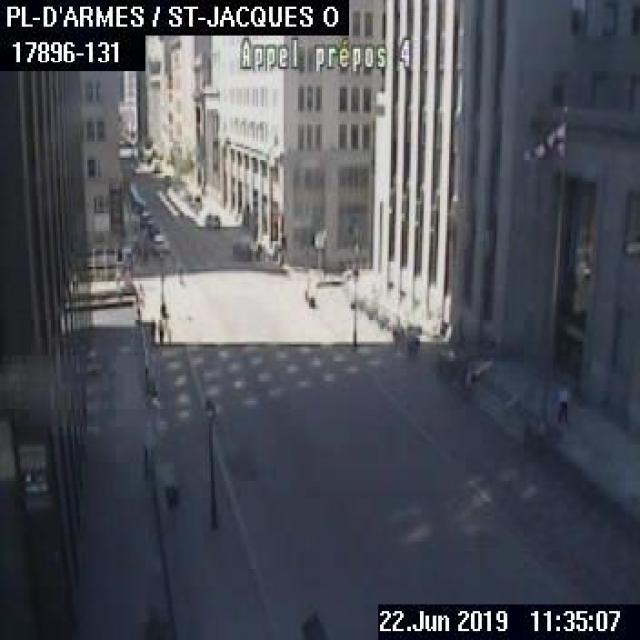pedestrian: (556, 384, 566, 421), (156, 316, 163, 344)
vehicle: (230, 235, 251, 257), (151, 232, 168, 252), (203, 212, 219, 228)
